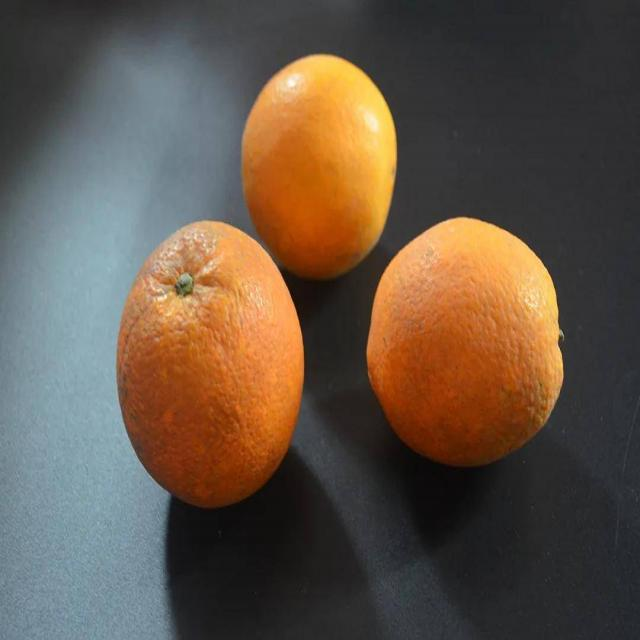Orange: (110, 222, 305, 508), (358, 215, 558, 469), (241, 52, 398, 270)
